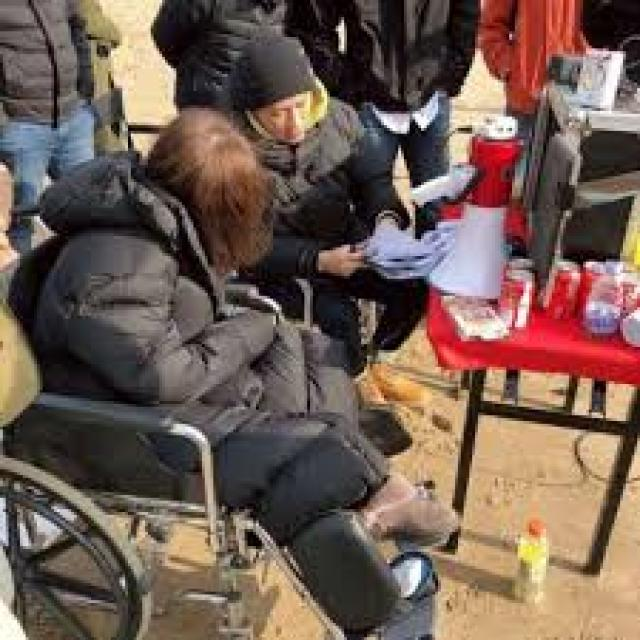wheelchairs: (0, 211, 455, 637)
